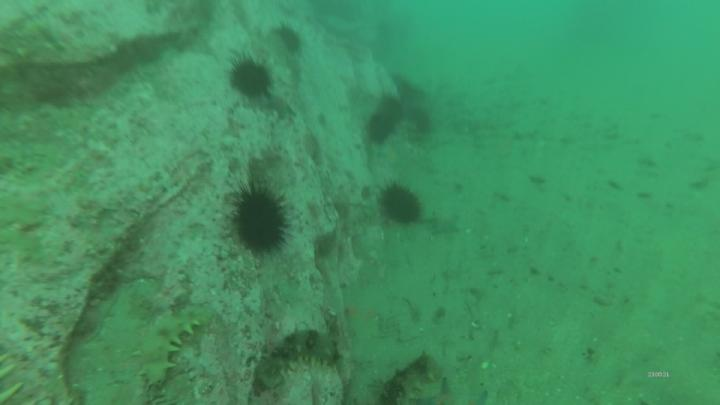echinus: (239, 192, 285, 249), (381, 187, 422, 225), (230, 64, 269, 97), (380, 97, 406, 127), (369, 113, 389, 142), (282, 27, 304, 51)
holothurian: (140, 307, 212, 382), (258, 333, 337, 383), (382, 353, 442, 405)
